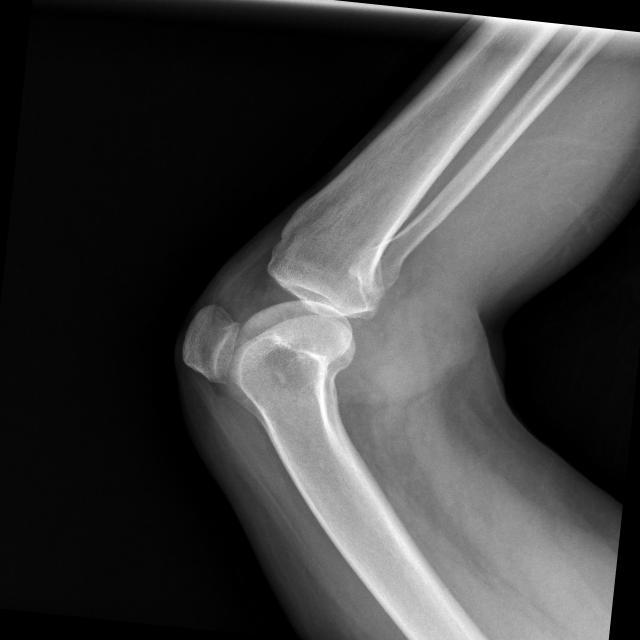Knee: (177, 232, 390, 412)
